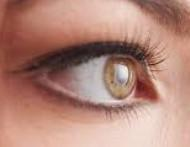eye: (104, 54, 138, 99)
